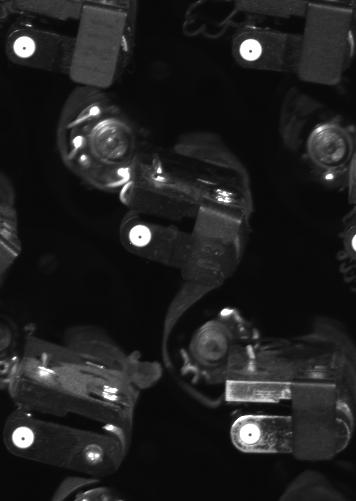fiber: (6, 28, 44, 66), (123, 218, 162, 255), (6, 421, 42, 458), (233, 415, 268, 450), (233, 36, 269, 68)
